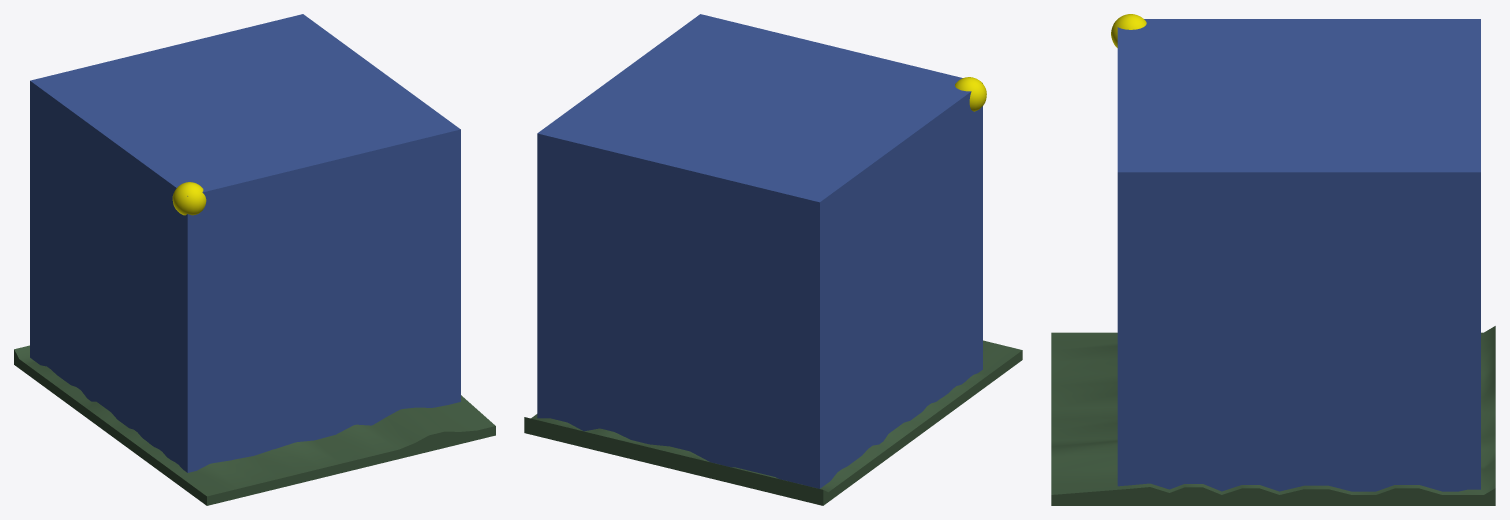
File: Environment1.fbx
The picture shows the model from 3 angles, left to right: view 1: azimuth 30°, elevation 25°; view 2: azimuth 150°, elevation 25°; view 3: azimuth 270°, elevation 25°; orthographic projection. The views are drawn at different scales.
Visible parts, largest first — view 1: pasted__pCube1, pasted__pCube2, Enviroment_Desert; view 2: pasted__pCube1, pasted__pCube2, Enviroment_Desert; view 3: pasted__pCube1, pasted__pCube2, Enviroment_Desert.
Part boxes in pixels (x1,y1,x2,y2): pasted__pCube1: [30, 14, 460, 472]; pasted__pCube2: [14, 345, 495, 505]; Enviroment_Desert: [172, 182, 206, 215]; pasted__pCube1: [537, 14, 982, 488]; pasted__pCube2: [524, 340, 1022, 505]; Enviroment_Desert: [955, 77, 986, 111]; pasted__pCube1: [1117, 19, 1480, 491]; pasted__pCube2: [1051, 326, 1495, 505]; Enviroment_Desert: [1111, 14, 1146, 47].
Bounding box in the file's own units: 19.41 × 18.8 × 22.44.
